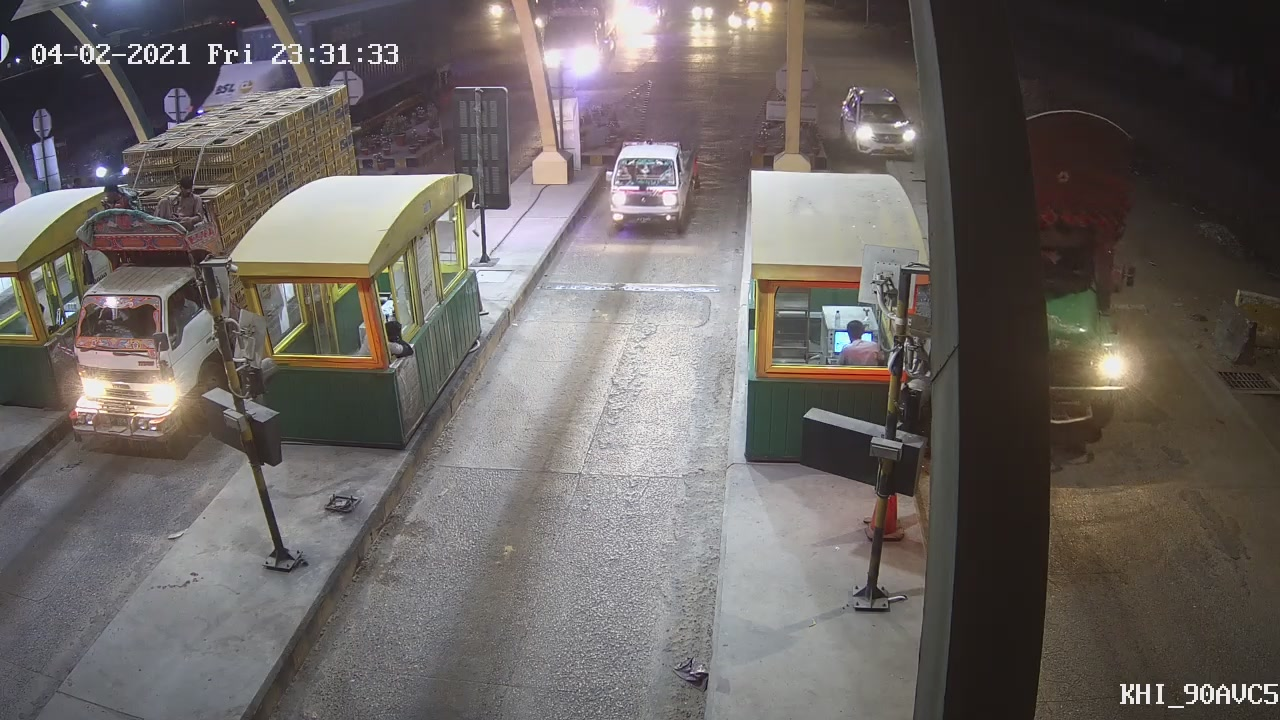F2: (597, 133, 699, 236)
